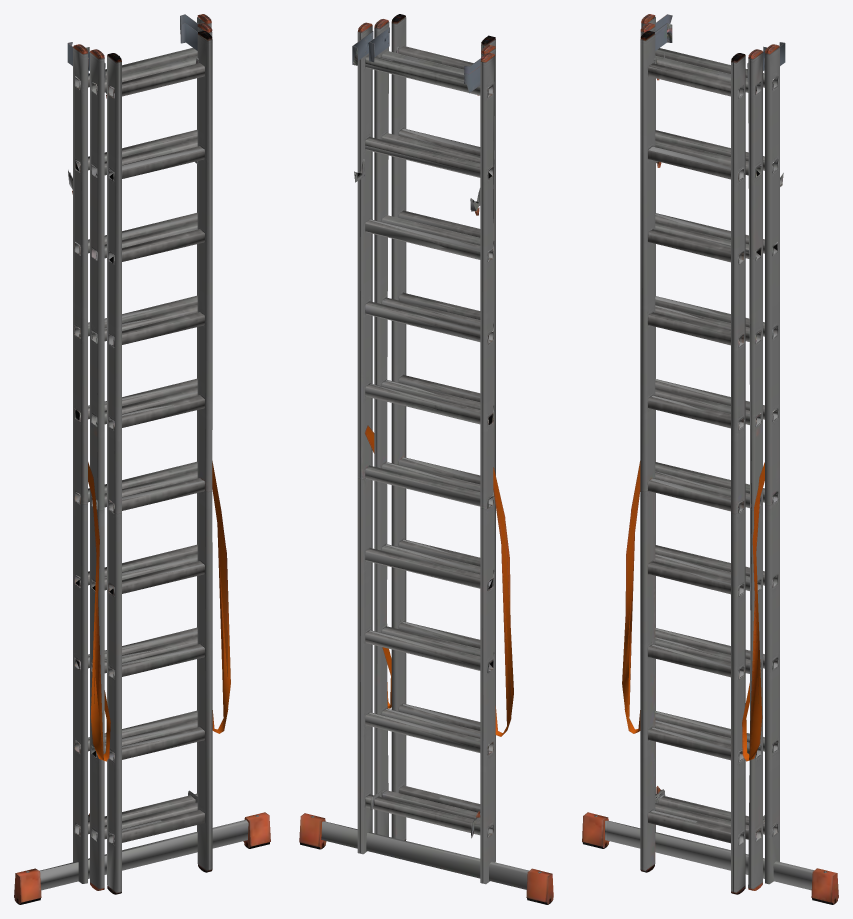
File: ladder_sectioned_01.glb
3 renders of one model, left to right at view 1: azimuth 30°, elevation 25°; view 2: azimuth 150°, elevation 25°; view 3: azimuth 330°, elevation 25°, orthographic.
Parts seen in each view (by area): view 1: ladder_section_01; view 2: ladder_section_01; view 3: ladder_section_01.
Part boxes in pixels (x1,y1,x2,y2): ladder_section_01: (14, 14, 270, 904); ladder_section_01: (299, 14, 553, 904); ladder_section_01: (582, 14, 838, 904).
Bounding box in the file's own units: 0.6616 × 2.13 × 0.177.
Materials: 1 (1 with a texture image).
